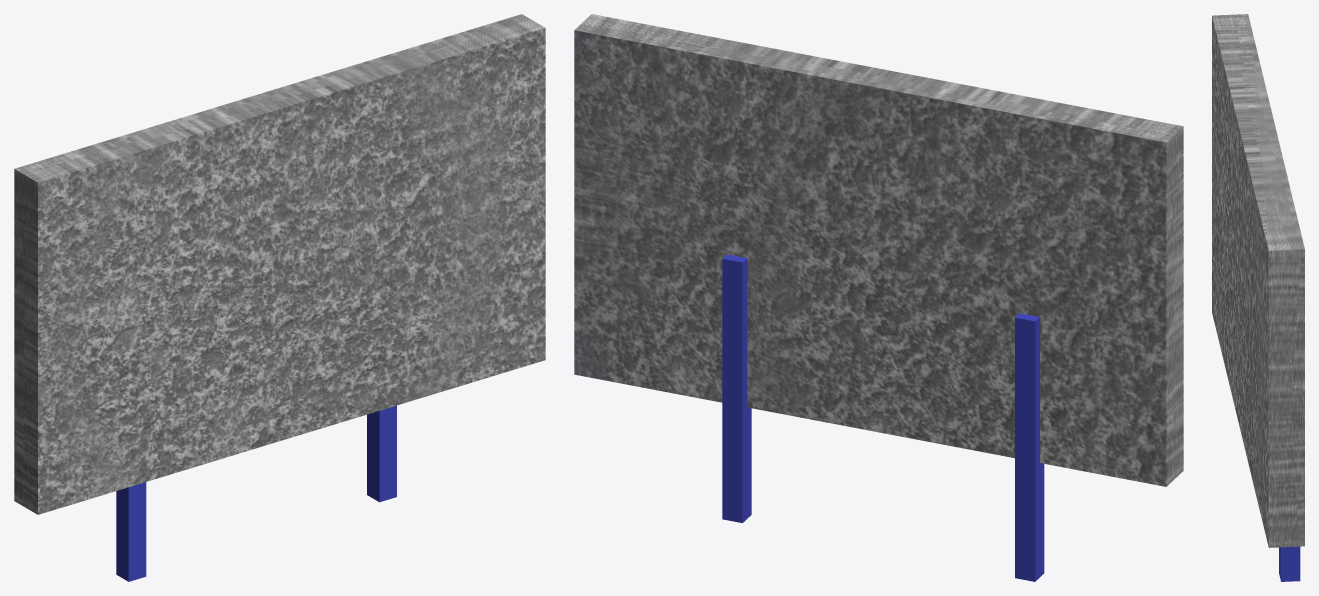
The model's file is board.fbx.
The picture shows the model from 3 angles, left to right: view 1: azimuth 30°, elevation 25°; view 2: azimuth 150°, elevation 25°; view 3: azimuth 270°, elevation 25°; orthographic projection. The views are drawn at different scales.
Parts seen in each view (by area): view 1: node_id40 (×3); view 2: node_id40 (×3); view 3: node_id40 (×2).
Part boxes in pixels (x1,y1,x2,y2): node_id40 (×3): (14, 14, 545, 581); node_id40 (×3): (574, 14, 1183, 581); node_id40 (×2): (1212, 14, 1304, 581).
Bounding box in the file's own units: 1.06 × 0.8225 × 0.175.
Materials: 2 (1 with a texture image).
